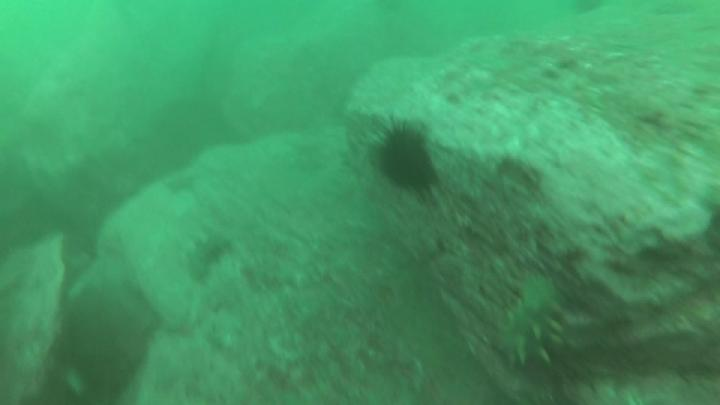echinus: (368, 115, 439, 203)
holothurian: (490, 274, 567, 366), (186, 230, 235, 286)
starfish: (161, 173, 201, 199)
